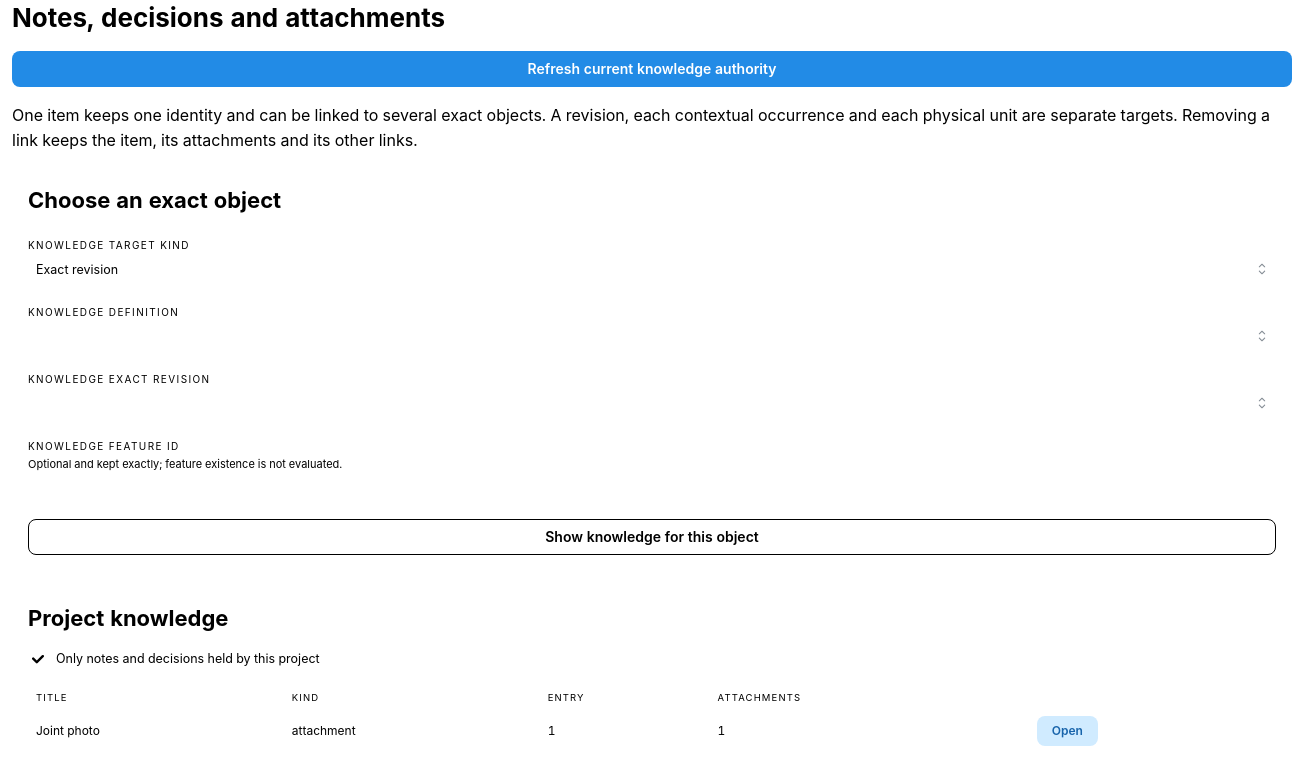
Scenario: a reader sees one item's exact links and attachment provenance without edit controls
Click the button with aria-label "Open Joint photo": (1067, 731) [1037,716,1098,746]
(page scrolled)
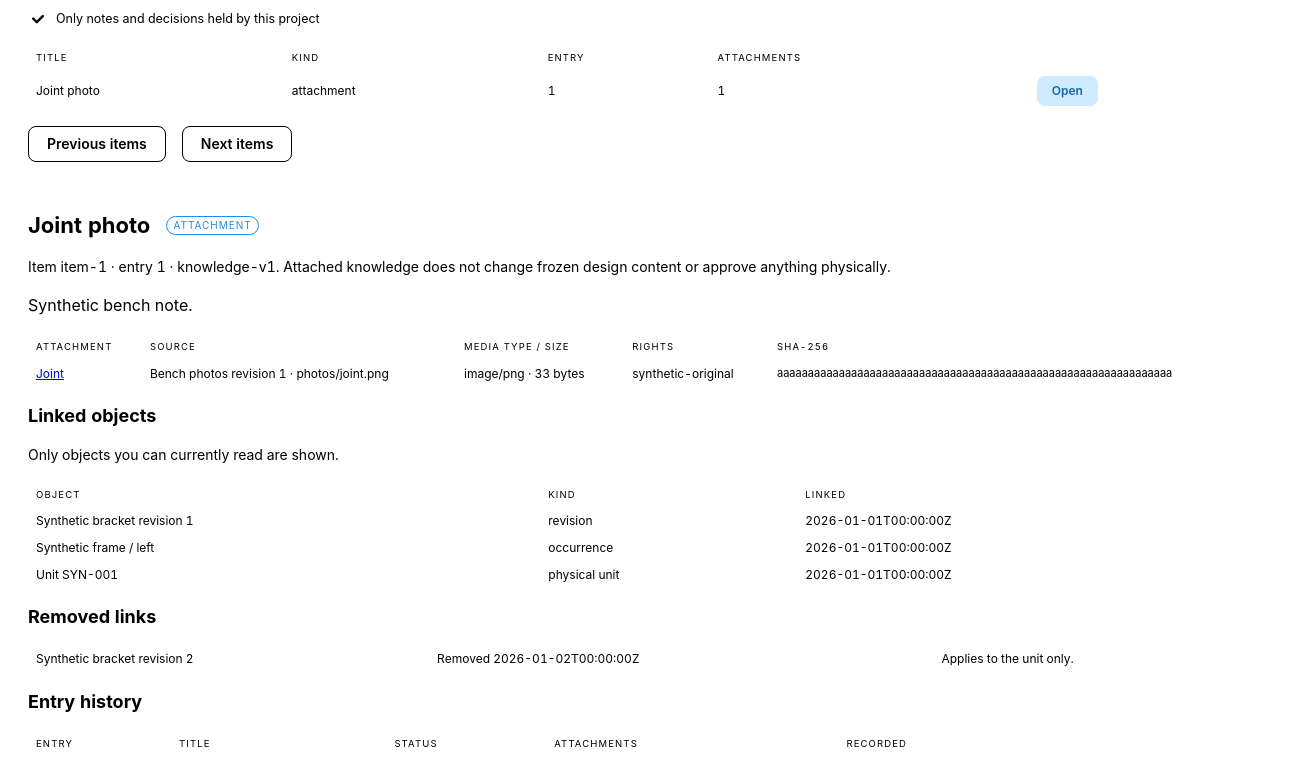
Expected: the text "Synthetic bracket revision 1" is shown, [28,508,540,535]
Expected: the text "Synthetic frame / left" is shown, [28,535,540,562]
Expected: the text "Unit SYN-001" is shown, [28,562,540,588]
